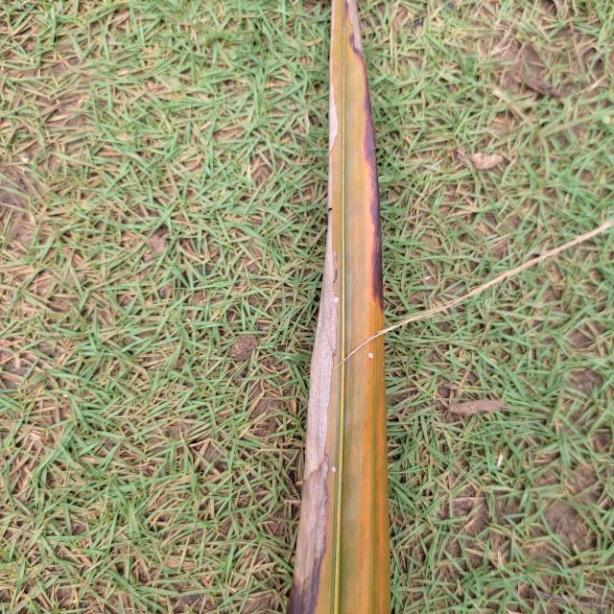Megnesium: (290, 0, 390, 614)
